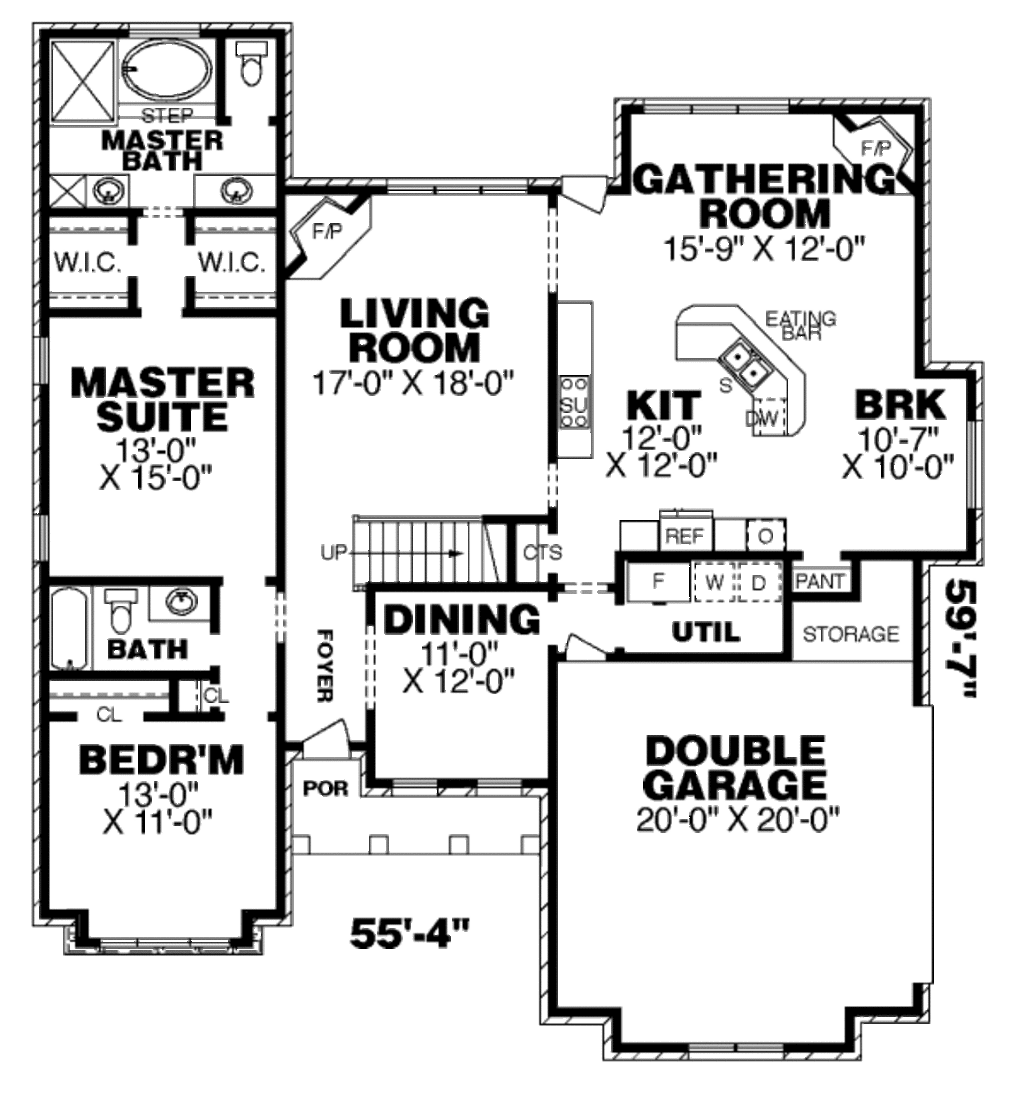door: (288, 721, 361, 760), (552, 627, 608, 676)
kitchen_bar: (659, 293, 808, 442)
large_sink: (222, 33, 280, 93), (100, 576, 147, 643)
small_sink: (149, 581, 222, 633), (197, 164, 266, 215), (73, 165, 139, 216)
stairs: (344, 508, 559, 588)
tub: (112, 28, 232, 121), (42, 579, 97, 677)
window: (383, 176, 530, 194), (93, 937, 232, 955), (686, 1037, 790, 1057), (386, 781, 525, 791)
